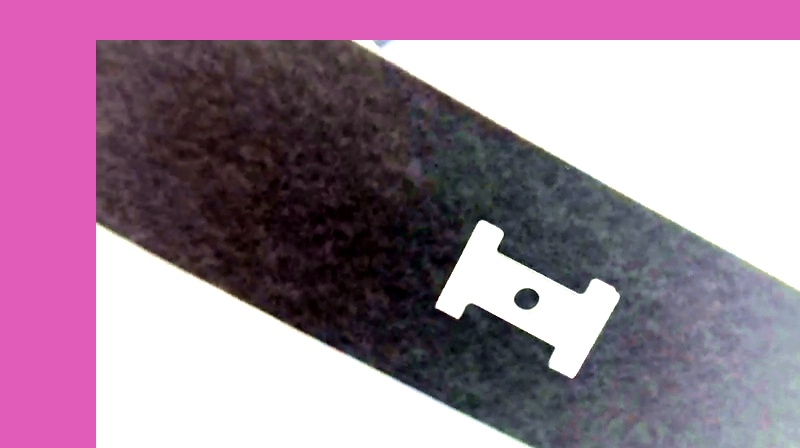O002: (431, 217, 618, 380)
